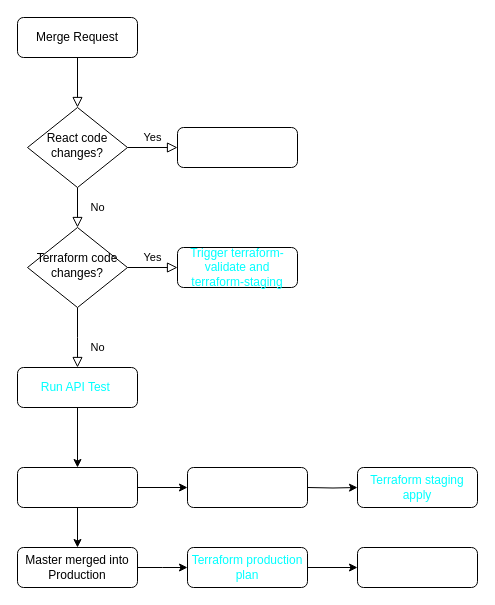
Image size: 495x605. Some labels were removed from this diagram. The centre of each missing label's shape, as x and y in pixels:
"Build and Push" belongs at (247,487).
"Pull Request Merged into Master" belongs at (77,487).
"Terraform production apply" belongs at (417,567).
"Trigger lint_client" belongs at (237,147).
